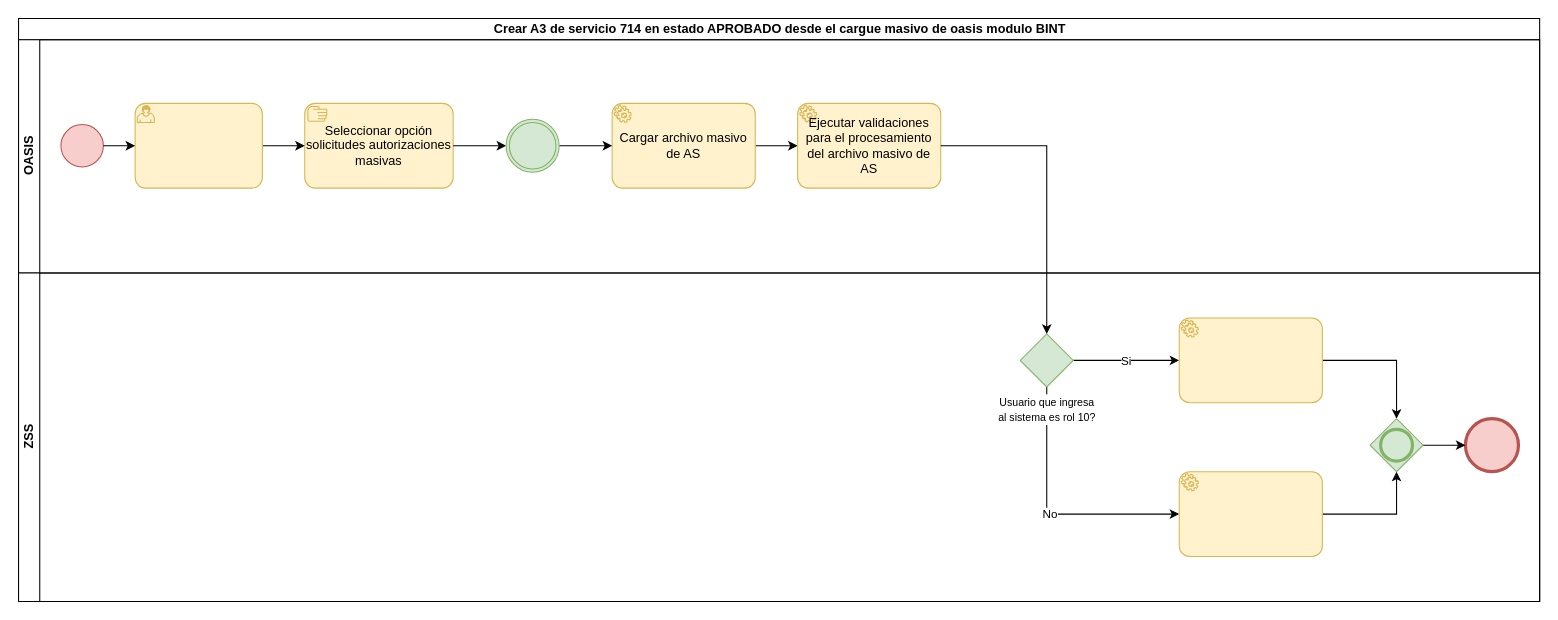
Some shapes in this 1558 by 620 pixel diagram are drawn without their labels. The shapes that lost their labels are listed below. From the top down, each one's centre as x and y in pixels, then its label:
At pixel 198 145: "Ingresar a OASIS módulo erip".
At pixel 532 145: "Clic botón aceptar".
At pixel 1250 360: "Crear A3 en estado APROBADO".
At pixel 1250 513: "Crear A3 en estado PENDIENTE".
